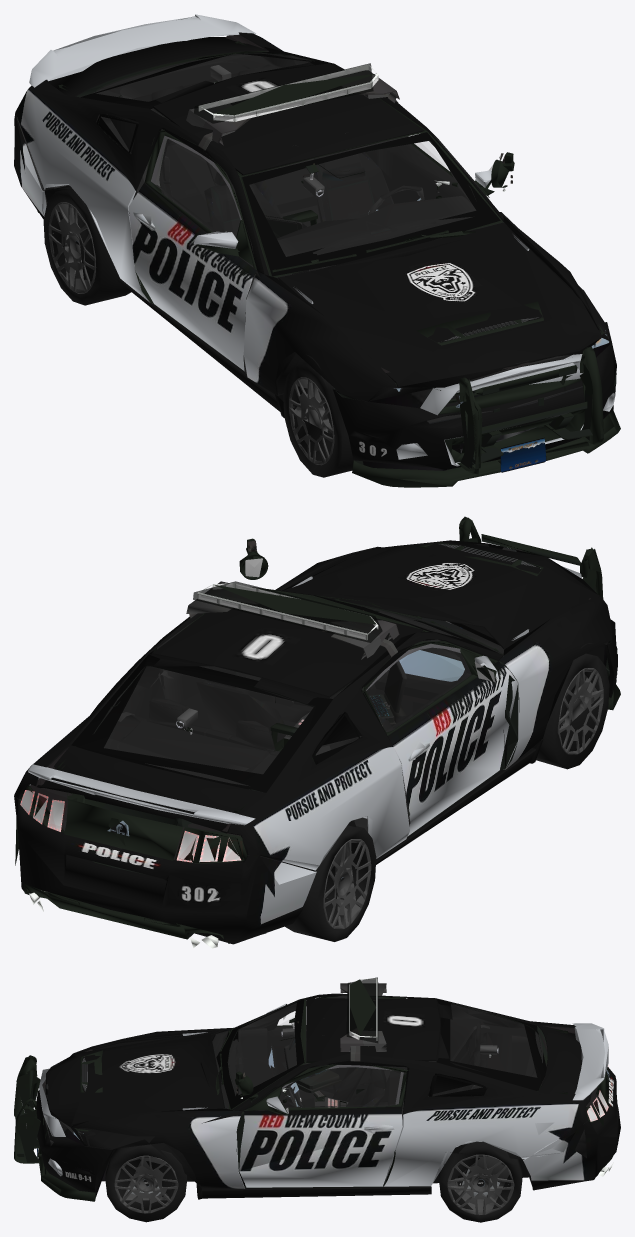
File: shelby-police-traffic.glb
3 views of the same model, one above another, from view 1: azimuth 30°, elevation 25°; view 2: azimuth 150°, elevation 25°; view 3: azimuth 270°, elevation 25° (orthographic). The views are drawn at different scales.
Visible parts, largest first — view 1: COP:car_ford_shelbygt500_2013_enforcer_Mesh_lod0M_Paint_Meta, COP:car_ford_shelbygt500_2013_enforcer_Mesh_lod0M_Internal_E, COP:car_ford_shelbygt500_2013_enforcer_Mesh_lod0M_Opaque_Pla, COP:car_ford_shelbygt500_2013_enforcer_Mesh_lod0M_Paint_Plas, COP:car_ford_shelbygt500_2013_enforcer_Mesh_lod0M_Glass_Mirr, COP:M_Tire_Highcar_ford_shelbygt500_2013_enforcer_Mesh_lod0_, COP:car_ford_shelbygt500_2013_enforcer_Mesh_lod0M_Rim_High_r, COP:car_ford_shelbygt500_2013_enforcer_Mesh_lod0M_Chassis_Hi, COP:car_ford_shelbygt500_2013_enforcer_Mesh_lod0M_Glass_Wind, COP:car_ford_shelbygt500_2013_enforcer_Mesh_lod0M_CopLights_, COP:car_ford_shelbygt500_2013_enforcer_Mesh_lod0M_LicensePla, COP:car_ford_shelbygt500_2013_enforcer_Mesh_lod0M_CopProps_H; view 2: COP:car_ford_shelbygt500_2013_enforcer_Mesh_lod0M_Paint_Meta, COP:car_ford_shelbygt500_2013_enforcer_Mesh_lod0M_Opaque_Pla, COP:car_ford_shelbygt500_2013_enforcer_Mesh_lod0M_Internal_E, COP:car_ford_shelbygt500_2013_enforcer_Mesh_lod0M_Paint_Plas, COP:car_ford_shelbygt500_2013_enforcer_Mesh_lod0M_Glass_Mirr, COP:M_Tire_Highcar_ford_shelbygt500_2013_enforcer_Mesh_lod0_, COP:car_ford_shelbygt500_2013_enforcer_Mesh_lod0M_Rim_High_r, COP:car_ford_shelbygt500_2013_enforcer_Mesh_lod0M_Glass_Wind, COP:car_ford_shelbygt500_2013_enforcer_Mesh_lod0M_CopProps_H, COP:car_ford_shelbygt500_2013_enforcer_Mesh_lod0M_LightRefra, COP:car_ford_shelbygt500_2013_enforcer_Mesh_lod0M_CopLights_, COP:car_ford_shelbygt500_2013_enforcer_Mesh_lod0M_Chassis_Hi; view 3: COP:car_ford_shelbygt500_2013_enforcer_Mesh_lod0M_Paint_Meta, COP:car_ford_shelbygt500_2013_enforcer_Mesh_lod0M_Internal_E, COP:car_ford_shelbygt500_2013_enforcer_Mesh_lod0M_Opaque_Pla, COP:car_ford_shelbygt500_2013_enforcer_Mesh_lod0M_Paint_Plas, COP:M_Tire_Highcar_ford_shelbygt500_2013_enforcer_Mesh_lod0_, COP:car_ford_shelbygt500_2013_enforcer_Mesh_lod0M_Rim_High_r, COP:car_ford_shelbygt500_2013_enforcer_Mesh_lod0M_Glass_Mirr, COP:car_ford_shelbygt500_2013_enforcer_Mesh_lod0M_Chassis_Hi, COP:car_ford_shelbygt500_2013_enforcer_Mesh_lod0M_CopProps_H, COP:car_ford_shelbygt500_2013_enforcer_Mesh_lod0M_Glass_Wind.
Part boxes in pixels (x1,y1,x2,y2): COP:car_ford_shelbygt500_2013_enforcer_Mesh_lod0M_Paint_Meta: (15, 14, 611, 417); COP:car_ford_shelbygt500_2013_enforcer_Mesh_lod0M_Internal_E: (79, 35, 530, 375); COP:car_ford_shelbygt500_2013_enforcer_Mesh_lod0M_Opaque_Pla: (17, 41, 620, 487); COP:car_ford_shelbygt500_2013_enforcer_Mesh_lod0M_Paint_Plas: (14, 113, 616, 469); COP:car_ford_shelbygt500_2013_enforcer_Mesh_lod0M_Glass_Mirr: (81, 52, 500, 276); COP:M_Tire_Highcar_ford_shelbygt500_2013_enforcer_Mesh_lod0_: (43, 188, 353, 477); COP:car_ford_shelbygt500_2013_enforcer_Mesh_lod0M_Rim_High_r: (48, 202, 334, 465); COP:car_ford_shelbygt500_2013_enforcer_Mesh_lod0M_Chassis_Hi: (17, 117, 610, 470); COP:car_ford_shelbygt500_2013_enforcer_Mesh_lod0M_Glass_Wind: (194, 63, 373, 123); COP:car_ford_shelbygt500_2013_enforcer_Mesh_lod0M_CopLights_: (205, 69, 378, 121); COP:car_ford_shelbygt500_2013_enforcer_Mesh_lod0M_LicensePla: (500, 437, 546, 472); COP:car_ford_shelbygt500_2013_enforcer_Mesh_lod0M_CopProps_H: (210, 65, 439, 274); COP:car_ford_shelbygt500_2013_enforcer_Mesh_lod0M_Paint_Meta: (14, 540, 612, 870); COP:car_ford_shelbygt500_2013_enforcer_Mesh_lod0M_Opaque_Pla: (15, 516, 620, 948); COP:car_ford_shelbygt500_2013_enforcer_Mesh_lod0M_Internal_E: (30, 547, 590, 859); COP:car_ford_shelbygt500_2013_enforcer_Mesh_lod0M_Paint_Plas: (14, 566, 617, 944); COP:car_ford_shelbygt500_2013_enforcer_Mesh_lod0M_Glass_Mirr: (71, 589, 497, 792); COP:M_Tire_Highcar_ford_shelbygt500_2013_enforcer_Mesh_lod0_: (282, 653, 609, 941); COP:car_ford_shelbygt500_2013_enforcer_Mesh_lod0M_Rim_High_r: (323, 668, 603, 929); COP:car_ford_shelbygt500_2013_enforcer_Mesh_lod0M_Glass_Wind: (104, 581, 382, 871); COP:car_ford_shelbygt500_2013_enforcer_Mesh_lod0M_CopProps_H: (177, 558, 406, 755); COP:car_ford_shelbygt500_2013_enforcer_Mesh_lod0M_LightRefra: (20, 790, 241, 862); COP:car_ford_shelbygt500_2013_enforcer_Mesh_lod0M_CopLights_: (198, 583, 377, 639); COP:car_ford_shelbygt500_2013_enforcer_Mesh_lod0M_Chassis_Hi: (19, 550, 606, 871); COP:car_ford_shelbygt500_2013_enforcer_Mesh_lod0M_Paint_Meta: (45, 993, 608, 1199); COP:car_ford_shelbygt500_2013_enforcer_Mesh_lod0M_Internal_E: (42, 995, 600, 1117); COP:car_ford_shelbygt500_2013_enforcer_Mesh_lod0M_Opaque_Pla: (14, 978, 618, 1201); COP:car_ford_shelbygt500_2013_enforcer_Mesh_lod0M_Paint_Plas: (35, 1067, 620, 1192); COP:M_Tire_Highcar_ford_shelbygt500_2013_enforcer_Mesh_lod0_: (105, 1141, 522, 1222); COP:car_ford_shelbygt500_2013_enforcer_Mesh_lod0M_Rim_High_r: (114, 1154, 514, 1215); COP:car_ford_shelbygt500_2013_enforcer_Mesh_lod0M_Glass_Mirr: (216, 998, 546, 1109); COP:car_ford_shelbygt500_2013_enforcer_Mesh_lod0M_Chassis_Hi: (42, 1030, 603, 1197); COP:car_ford_shelbygt500_2013_enforcer_Mesh_lod0M_CopProps_H: (26, 1028, 497, 1128); COP:car_ford_shelbygt500_2013_enforcer_Mesh_lod0M_Glass_Wind: (346, 977, 601, 1104).
Bounding box in the file's own units: 0.0204 × 0.0151 × 0.0494.
20 materials, 18 textured.
